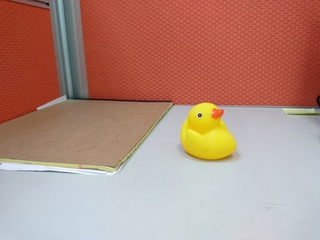duck: (175, 98, 239, 165)
